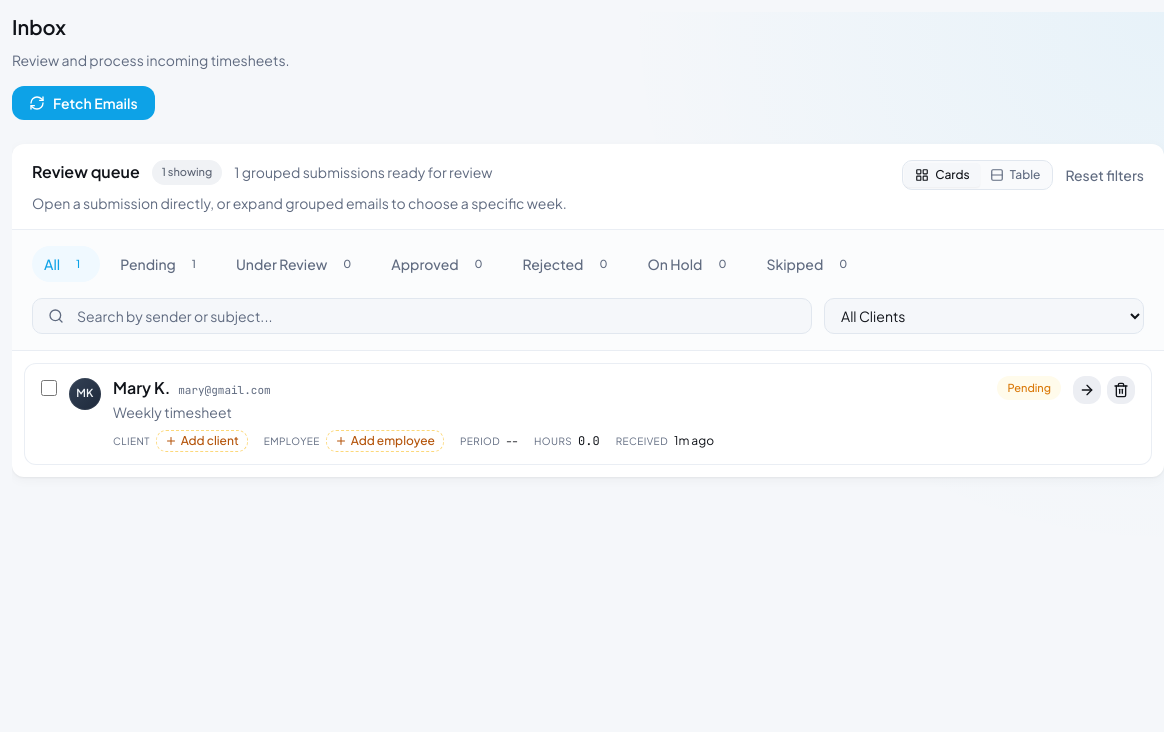
it: InboxPage — inline picker editable create flow › falls back to the domain-derived guess when no AI extraction is present
The width and height of the screenshot is (1164, 732).
Click the button "Add client" at (202, 440), box [156, 430, 248, 452]
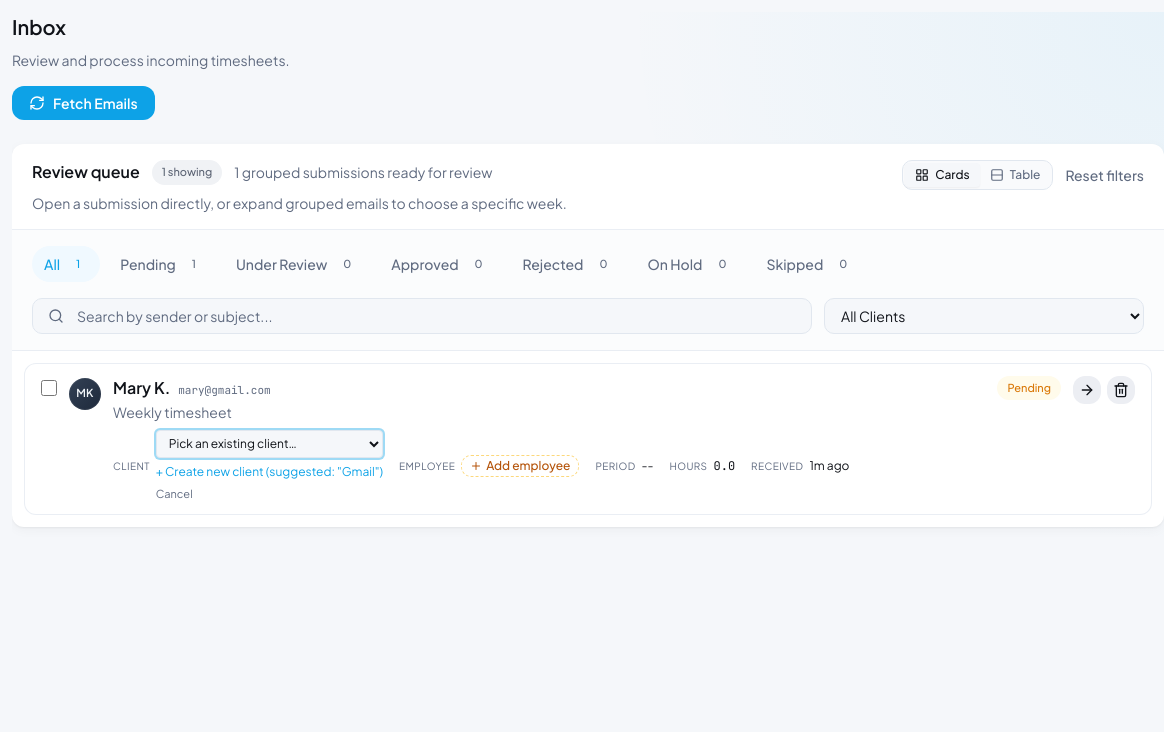
Now the button "+ Create new client (suggested: \"Gmail\")" is shown, box [156, 464, 383, 480]
